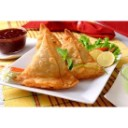samosa: (21, 32, 76, 87), (62, 29, 101, 78)
